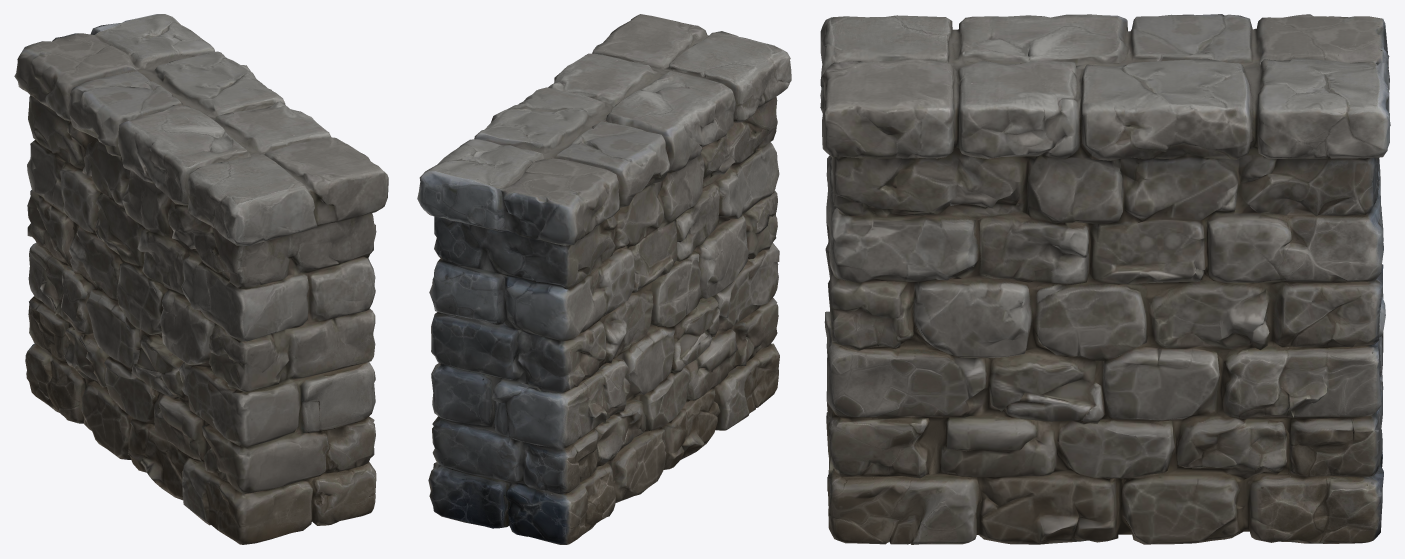
The model's file is stone+wall+3d+model.glb.
3 renders of one model, left to right at view 1: azimuth 30°, elevation 25°; view 2: azimuth 150°, elevation 25°; view 3: azimuth 270°, elevation 25°, orthographic. The views are drawn at different scales.
Visible parts, largest first — view 1: tripo_node_e95a6972-e2a5-4638-a102-5b6033f62725; view 2: tripo_node_e95a6972-e2a5-4638-a102-5b6033f62725; view 3: tripo_node_e95a6972-e2a5-4638-a102-5b6033f62725.
Part boxes in pixels (x1,y1,x2,y2): tripo_node_e95a6972-e2a5-4638-a102-5b6033f62725: [14, 14, 388, 544]; tripo_node_e95a6972-e2a5-4638-a102-5b6033f62725: [417, 14, 791, 544]; tripo_node_e95a6972-e2a5-4638-a102-5b6033f62725: [820, 14, 1390, 544].
Bounding box in the file's own units: 0.4226 × 0.8713 × 1.
Materials: 1 (1 with a texture image).
